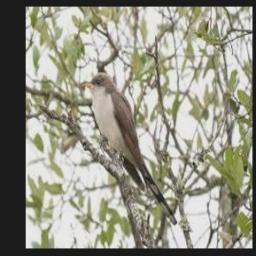Cuckoo: (84, 72, 178, 228)
